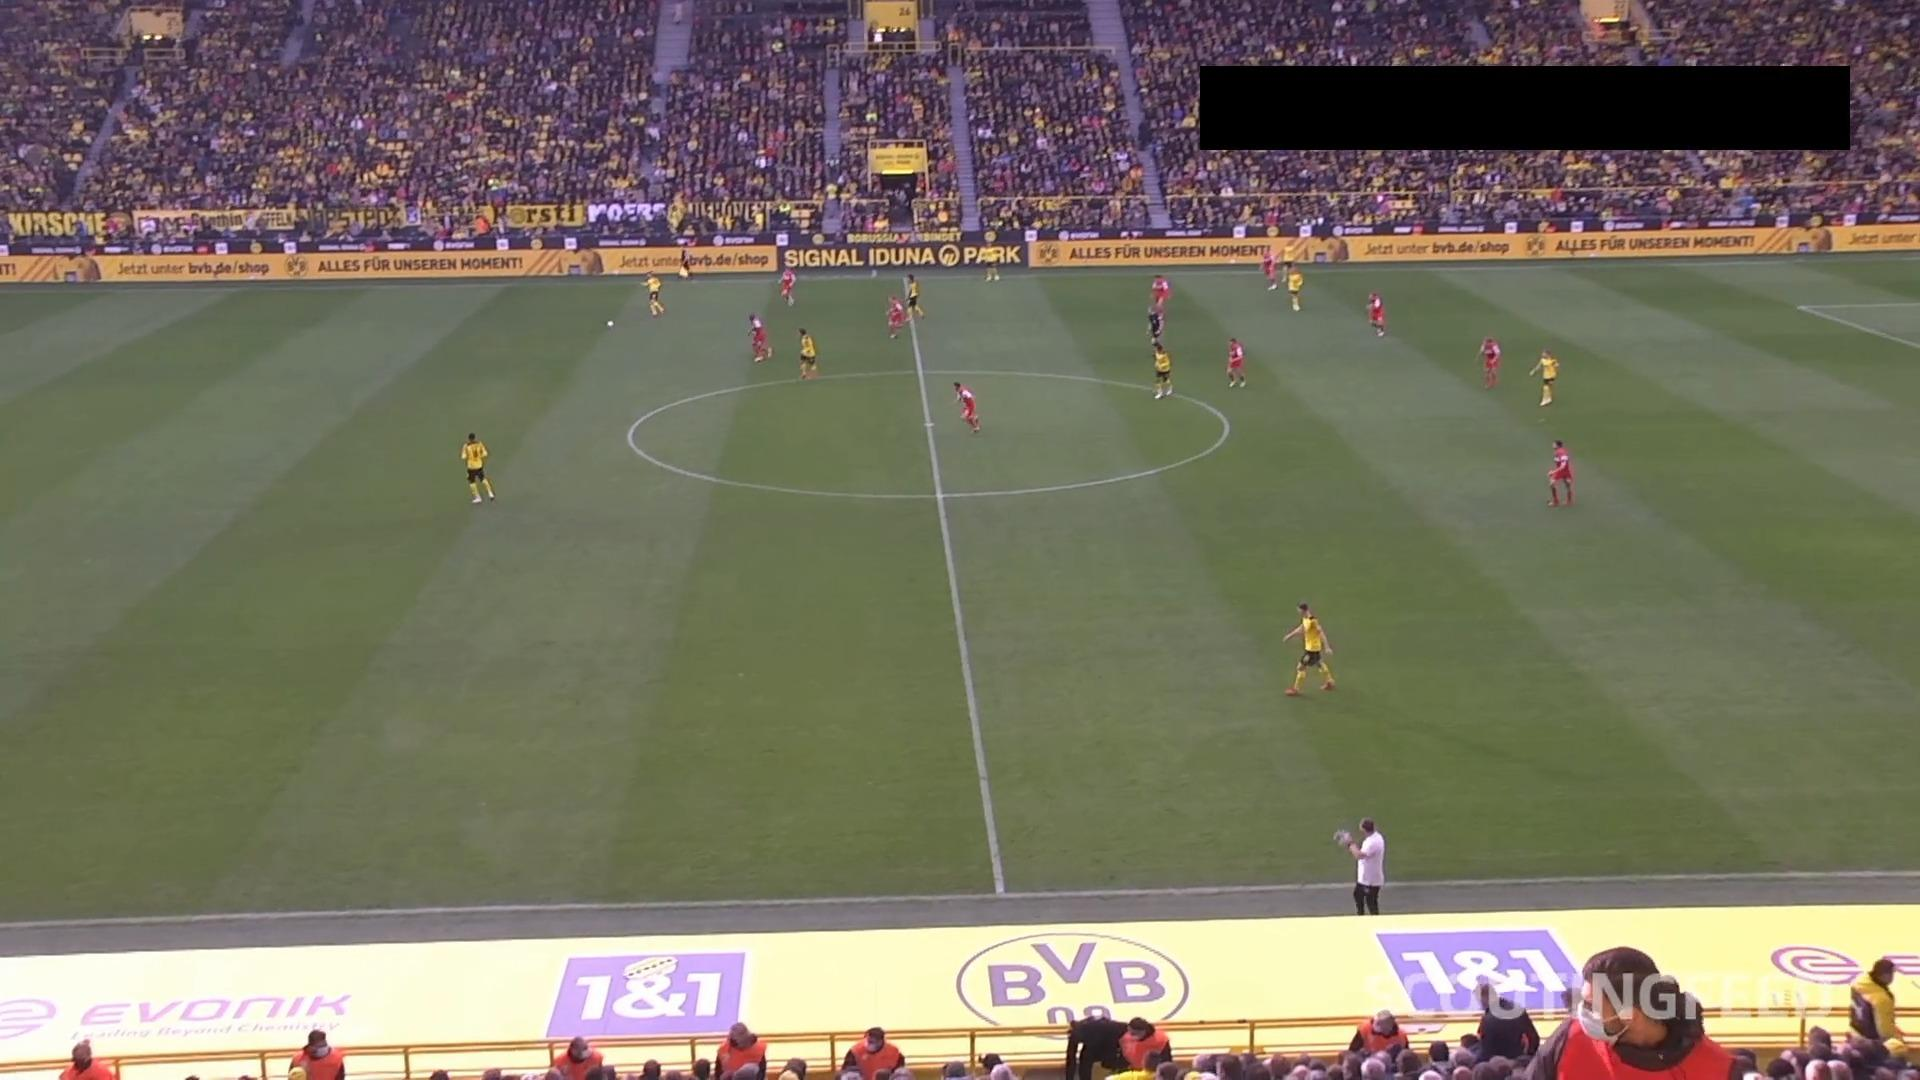ball: (605, 320, 613, 328)
coach: (1335, 814, 1388, 912)
fan: (1550, 949, 1705, 1066), (1063, 1014, 1169, 1078), (1064, 1008, 1114, 1079)
player: (1281, 601, 1336, 695), (459, 431, 495, 503), (1545, 438, 1574, 506), (1527, 347, 1558, 406), (951, 379, 980, 434), (746, 312, 772, 363), (1478, 334, 1501, 388), (1151, 344, 1173, 399), (1224, 336, 1247, 388), (796, 327, 817, 379), (902, 273, 925, 319), (642, 271, 664, 317), (1365, 289, 1385, 337), (885, 294, 906, 339), (1148, 273, 1169, 316), (1285, 266, 1303, 311), (777, 265, 796, 306), (1260, 247, 1277, 290), (1279, 242, 1294, 281), (983, 259, 1000, 283)
referee: (1145, 297, 1166, 345), (676, 242, 692, 279)
